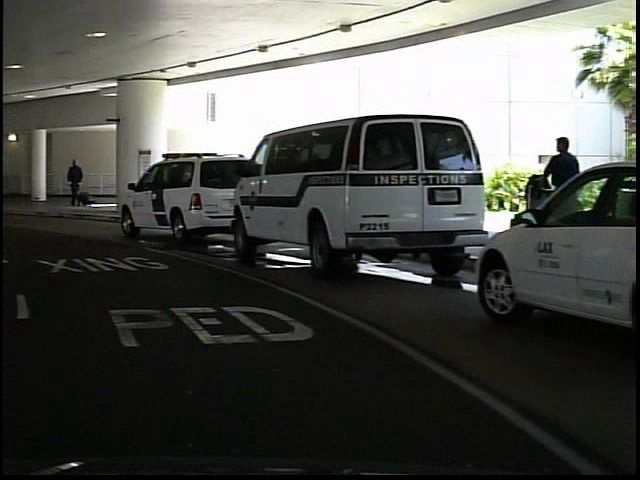person: (537, 133, 581, 263), (60, 155, 86, 214)
